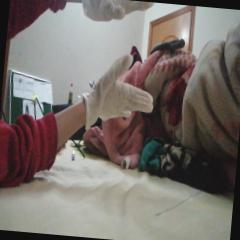gloved: (82, 50, 158, 133), (80, 0, 155, 26)
